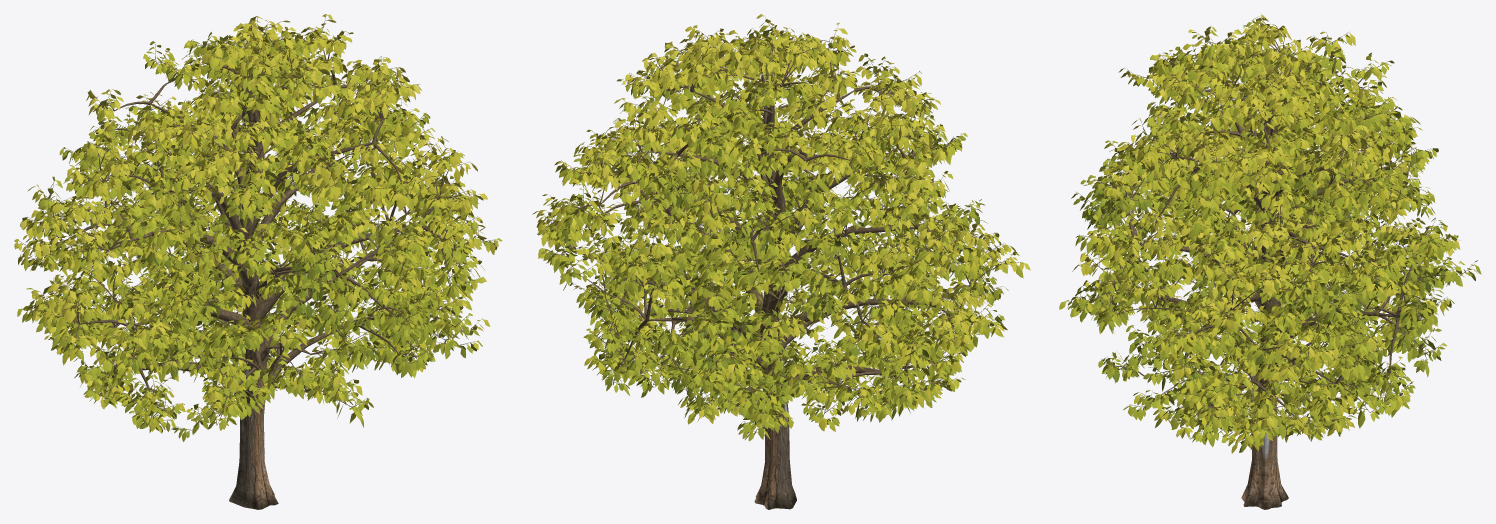
The model's file is humanities_background_tree.glb.
The picture shows the model from 3 angles, left to right: view 1: azimuth 30°, elevation 25°; view 2: azimuth 150°, elevation 25°; view 3: azimuth 270°, elevation 25°; orthographic projection.
Parts seen in each view (by area): view 1: Humanities background tree; view 2: Humanities background tree; view 3: Humanities background tree.
Part boxes in pixels (x1,y1,x2,y2): Humanities background tree: (14,14,502,509); Humanities background tree: (532,14,1030,509); Humanities background tree: (1059,14,1481,509).
Bounding box in the file's own units: 6.72 × 6.8 × 5.49.
Materials: 3 (3 with a texture image).
